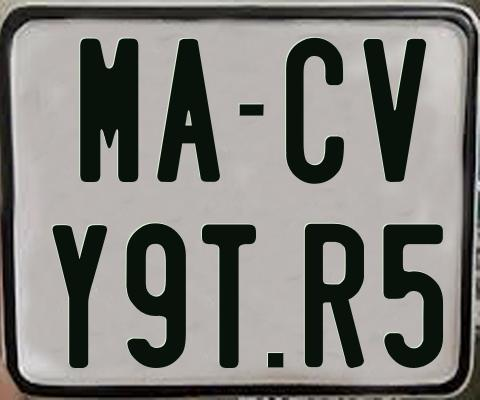5: (382, 222, 447, 372)
9: (123, 220, 188, 365)
A: (156, 37, 224, 180)
C: (285, 37, 344, 187)
M: (77, 35, 135, 184)
R: (303, 224, 364, 374)
T: (199, 223, 256, 368)
V: (360, 38, 428, 185)
Y: (49, 224, 110, 368)
